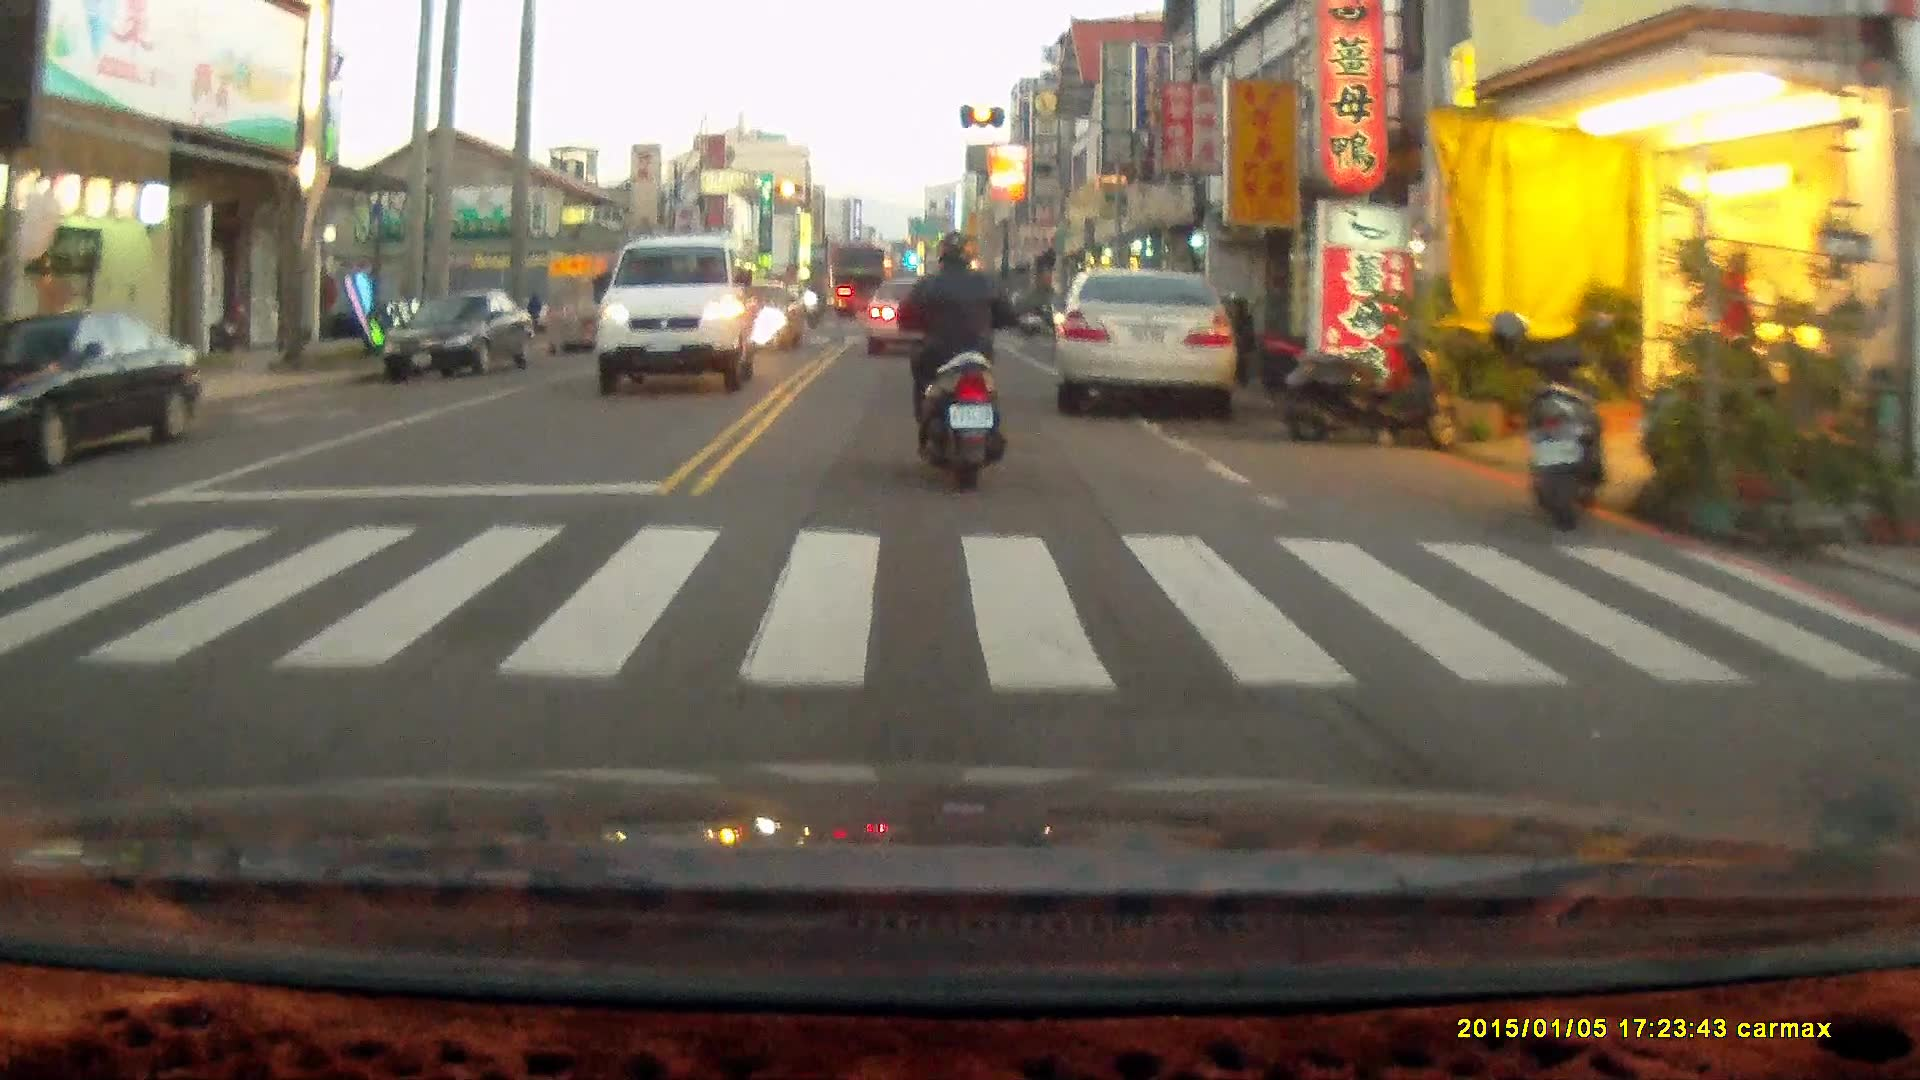pedestrian: (1715, 252, 1758, 401)
rider: (893, 230, 1016, 493)
vehicle: (1, 308, 204, 482), (1054, 269, 1238, 413), (597, 237, 753, 401), (382, 288, 532, 390), (861, 274, 961, 352)
